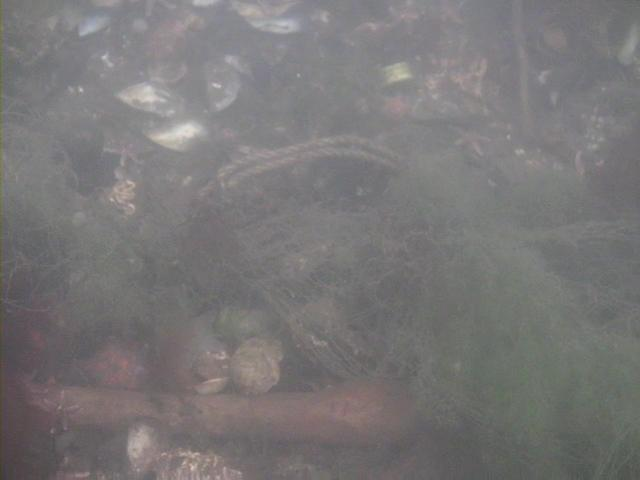bundle of ropes: (206, 135, 404, 188)
